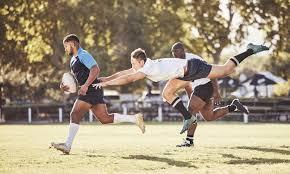ballon_rugby: (61, 71, 78, 95)
